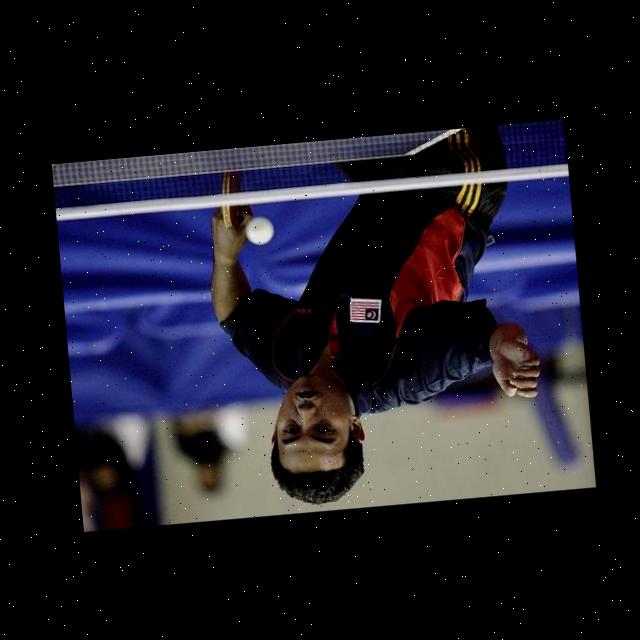ping-pong-ball: (242, 213, 274, 246)
